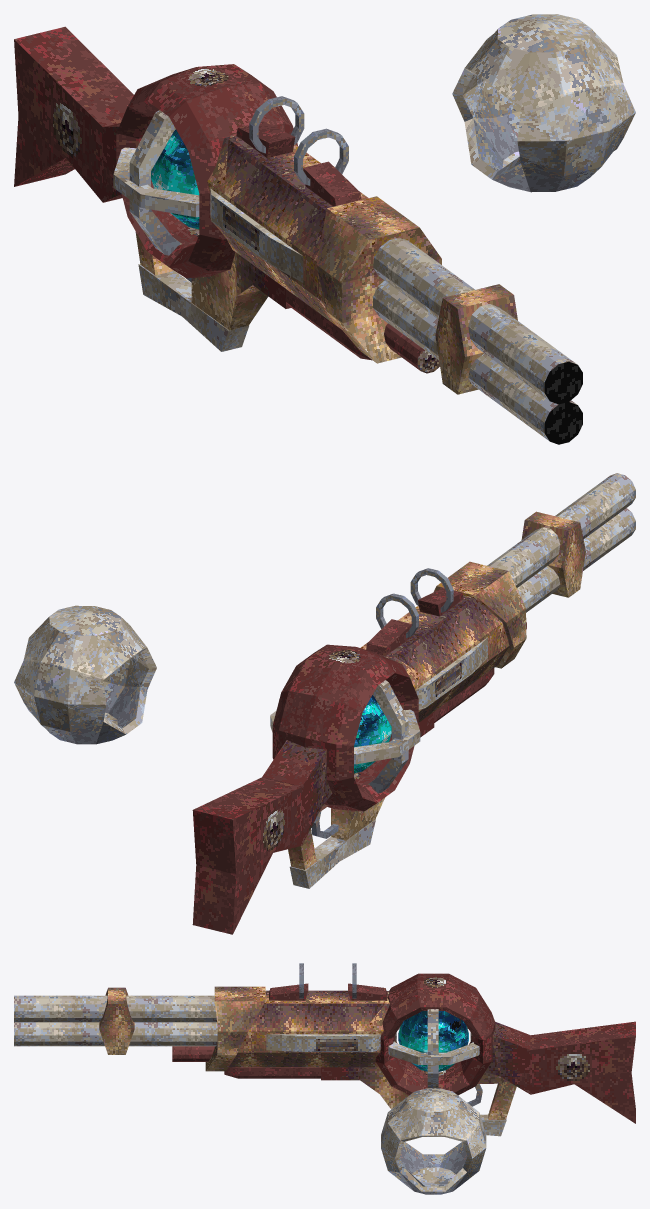
The model's file is pumpgun_overheatcolor.fbx.
3 renders of one model, top to bottom at view 1: azimuth 30°, elevation 25°; view 2: azimuth 150°, elevation 25°; view 3: azimuth 270°, elevation 25°, orthographic. The views are drawn at different scales.
Visible parts, largest first — view 1: CoreOutline, CoreHolder, Comb, Reciver, Barrel3, ReciverFront, Barrel2, BarrelHolder, Handle, triggerGuardBottom, rim2, CoreOutline4 (+9 smaller); view 2: CoreOutline, CoreHolder, Comb, Reciver, Barrel3, ReciverFront, Grip, Barrel2, BarrelHolder, triggerGuardBottom, CoreOutline4, rim2 (+9 smaller); view 3: CoreOutline, Reciver, CoreHolder, Comb, Barrel3, Barrel2, ReciverFront, Grip, Core, rim1, BarrelHolder, Handle (+8 smaller).
Part boxes in pixels (x1,y1,x2,y2): CoreOutline: (452,14,635,192); CoreHolder: (116,64,297,278); Comb: (14,26,133,202); Reciver: (207,135,368,329); Barrel3: (373,237,582,404); ReciverFront: (316,196,441,363); Barrel2: (373,280,582,444); BarrelHolder: (435,284,517,394); Handle: (191,252,290,330); triggerGuardBottom: (138,264,249,351); rim2: (210,188,303,282); CoreOutline4: (129,110,181,255); CoreOutline: (14,605,156,744); CoreHolder: (272,644,418,811); Comb: (192,777,301,934); Reciver: (360,595,509,722); Barrel3: (487,473,635,587); ReciverFront: (434,561,526,668); Grip: (262,740,332,844); Barrel2: (517,508,635,612); BarrelHolder: (521,511,585,597); triggerGuardBottom: (289,819,375,888); CoreOutline4: (368,680,408,793); rim2: (415,637,487,709); CoreOutline: (381,1088,486,1194); Reciver: (229,990,389,1067); CoreHolder: (375,973,495,1095); Comb: (530,1021,635,1123); Barrel3: (14,995,216,1022); Barrel2: (14,1022,217,1046); ReciverFront: (205,986,265,1071); Grip: (485,1022,530,1093); Core: (398,1011,468,1071); rim1: (266,1034,380,1051); BarrelHolder: (99,987,134,1054); Handle: (321,1067,408,1109).
Size of the model in its own units: 233 by 132 by 442.
Materials: 6 (6 with a texture image).
